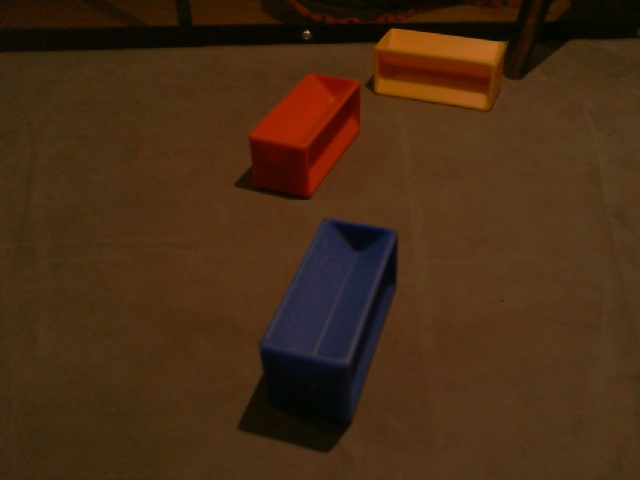BlueSample: (257, 216, 400, 424)
RedSample: (245, 71, 366, 202)
YellowSample: (370, 25, 508, 115)
